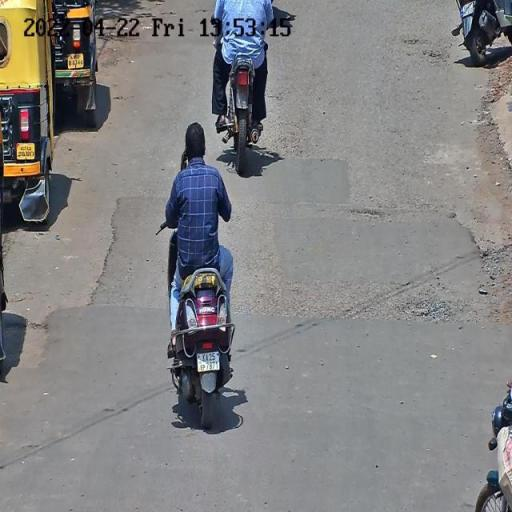using mobile: (180, 146, 190, 170)
